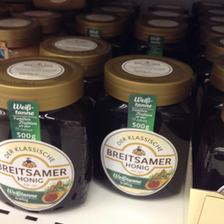honey: (92, 52, 197, 200), (1, 57, 93, 218)
